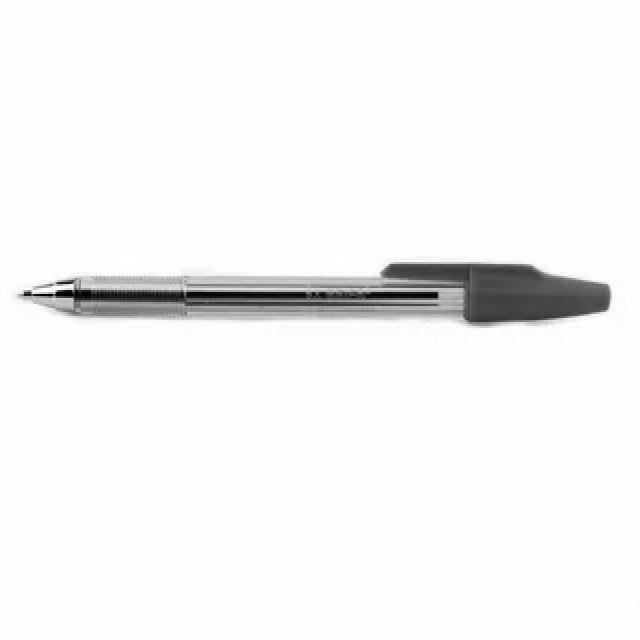pencil: (13, 251, 621, 345)
